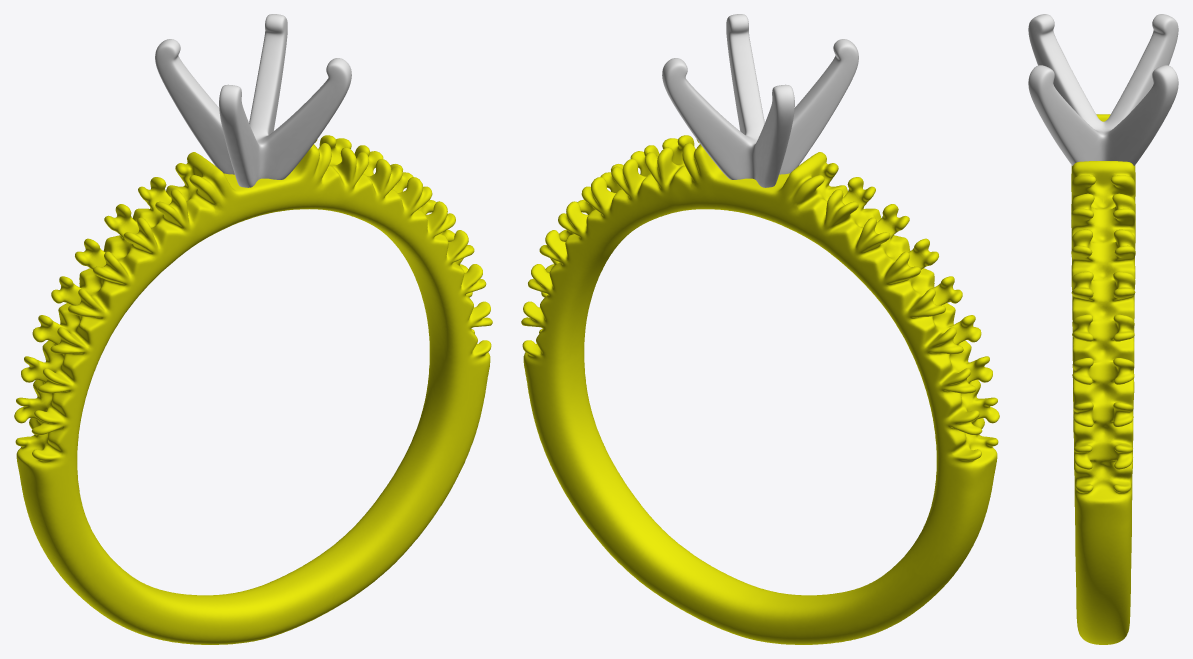
The picture shows the model from 3 angles, left to right: view 1: azimuth 30°, elevation 25°; view 2: azimuth 150°, elevation 25°; view 3: azimuth 270°, elevation 25°; orthographic projection.
Visible parts, largest first — view 1: Body; view 2: Body; view 3: Body.
Part boxes in pixels (x1,y1,x2,y2): Body: (14, 14, 492, 644); Body: (521, 14, 999, 644); Body: (1028, 14, 1178, 644).
Bounding box in the file's own units: 0.0207 × 0.0251 × 0.00591.
